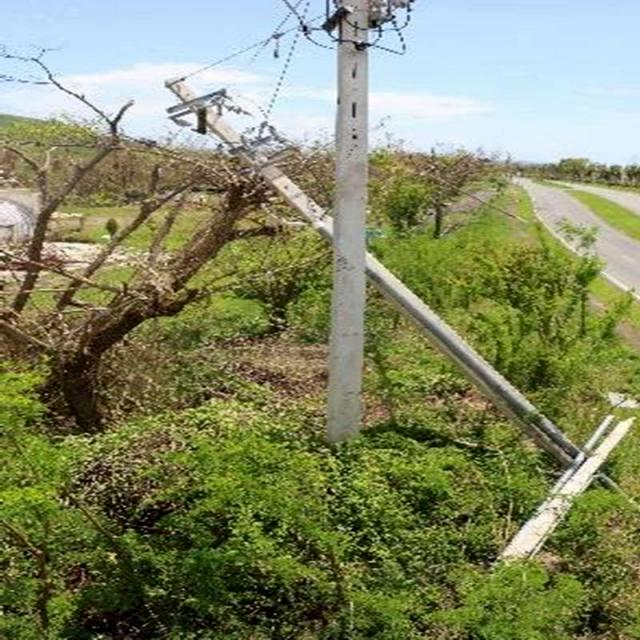Broken Pole: (165, 109, 605, 574), (175, 79, 467, 351)
